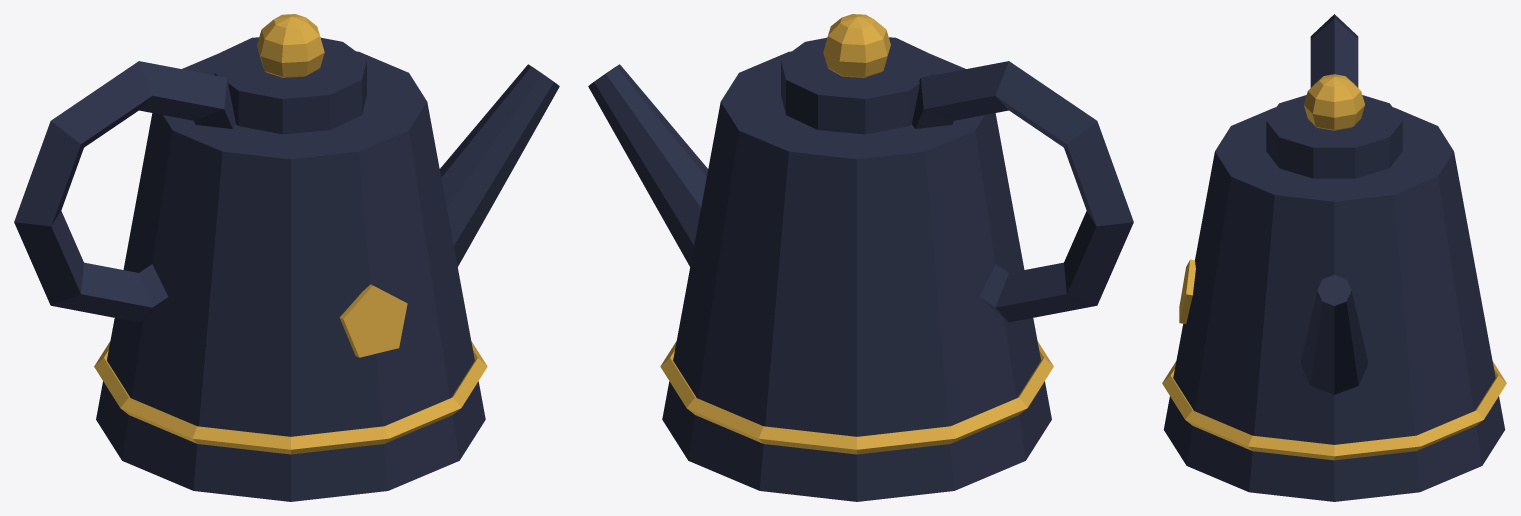
Rendered from kettle.glb.
3 renders of one model, left to right at view 1: azimuth 30°, elevation 25°; view 2: azimuth 150°, elevation 25°; view 3: azimuth 270°, elevation 25°, orthographic. The views are drawn at different scales.
Parts seen in each view (by area): view 1: kettle; view 2: kettle; view 3: kettle.
Part boxes in pixels (x1,y1,x2,y2): kettle: (14, 14, 559, 501); kettle: (588, 14, 1133, 501); kettle: (1162, 14, 1506, 501).
Bounding box in the file's own units: 0.3215 × 0.228 × 0.202.
